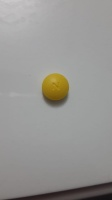Nurofen: (39, 70, 70, 104)
